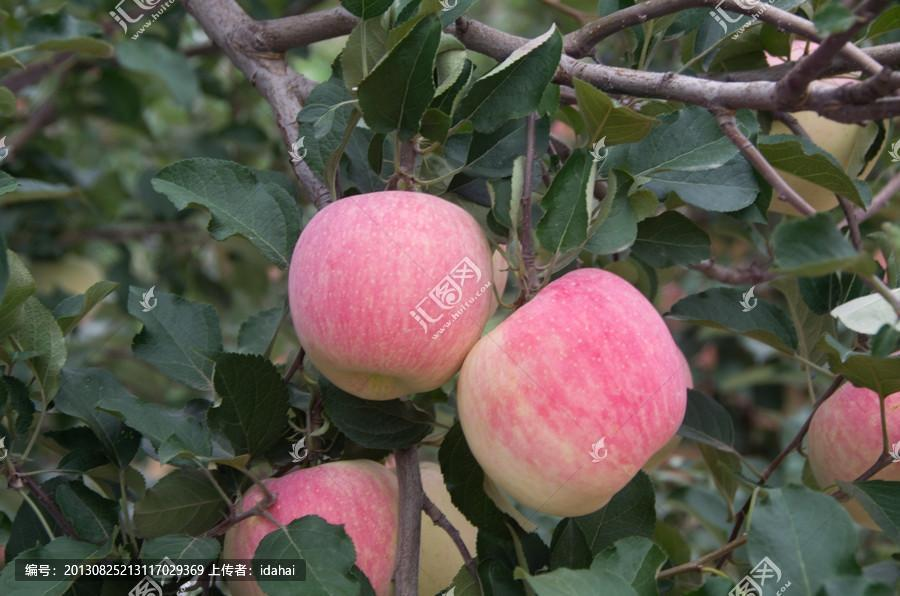apple: (445, 265, 682, 522), (284, 193, 502, 391), (217, 456, 404, 590), (803, 377, 900, 488)
